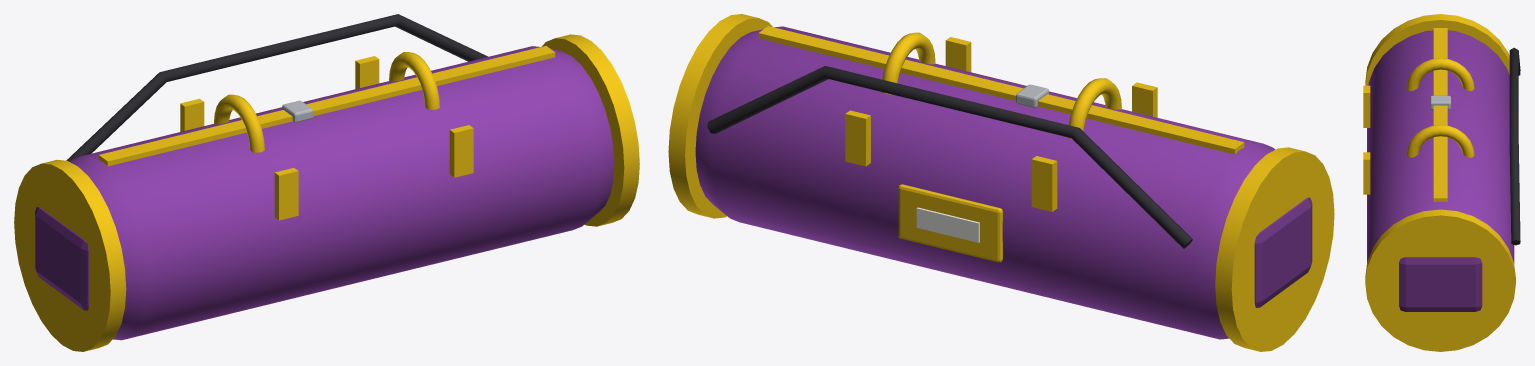
Rendered from duffel.fbx.
3 views of the same model, side by side, from view 1: azimuth 30°, elevation 25°; view 2: azimuth 150°, elevation 25°; view 3: azimuth 270°, elevation 25° (orthographic). The views are drawn at different scales.
Parts seen in each view (by area): view 1: Gym Duffel; view 2: Gym Duffel; view 3: Gym Duffel.
Part boxes in pixels (x1,y1,x2,y2): Gym Duffel: (14, 14, 639, 351); Gym Duffel: (668, 14, 1334, 351); Gym Duffel: (1363, 14, 1520, 351).
Size of the model in its own units: 2.76 by 1 by 0.8961.
